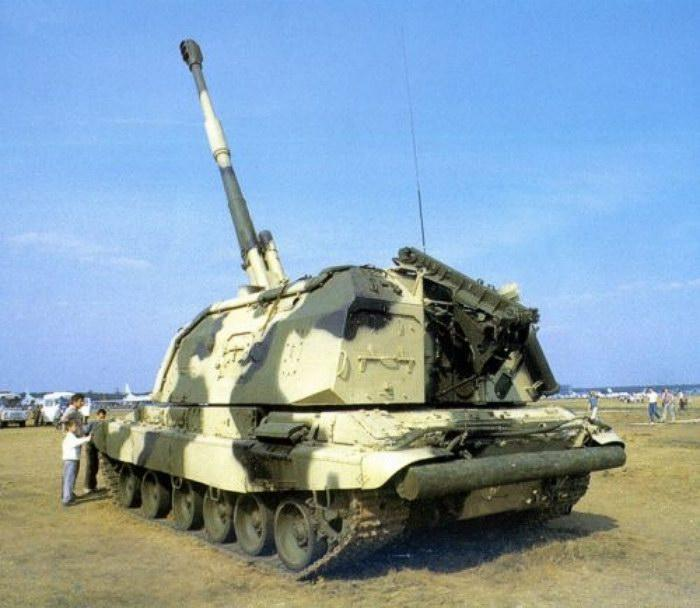sau: (97, 32, 647, 585)
